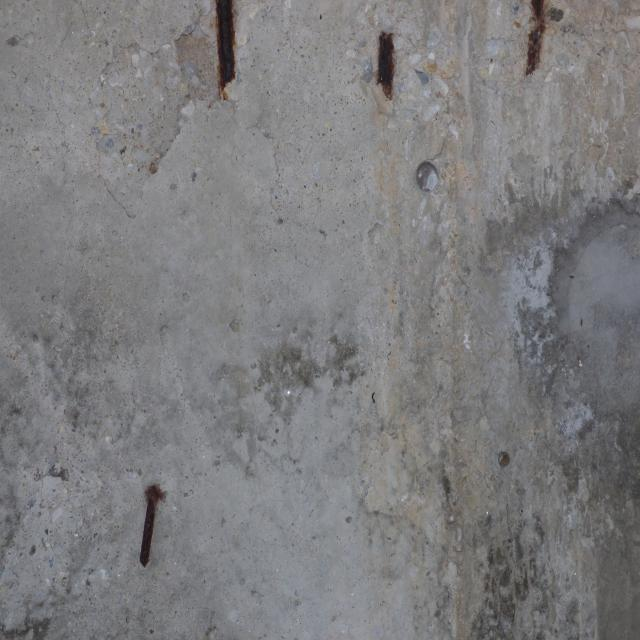corrosion: (514, 0, 570, 83), (203, 0, 248, 99), (130, 473, 172, 575), (368, 23, 404, 110)
